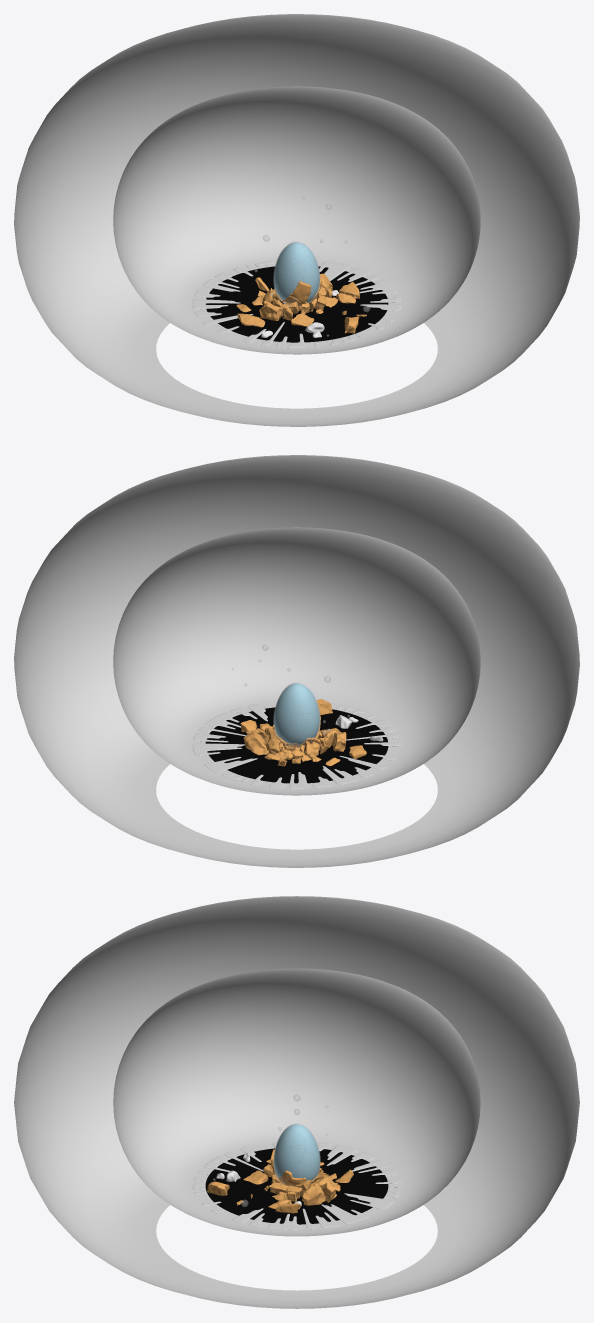
File: PXLs_egg239.glb
The picture shows the model from 3 angles, top to bottom: view 1: azimuth 30°, elevation 25°; view 2: azimuth 150°, elevation 25°; view 3: azimuth 270°, elevation 25°; orthographic projection.
Visible parts, largest first — view 1: outerCylinder, innerCylinder, floorBase, rockDebris, smoke4, smoke3, crackedEgg; view 2: outerCylinder, innerCylinder, floorBase, rockDebris, smoke4, smoke3, crackedEgg; view 3: outerCylinder, innerCylinder, floorBase, rockDebris, smoke4, smoke3, crackedEgg.
Boxes of the visible parts, bbox=[...] form: outerCylinder: bbox=[14, 14, 579, 426]; innerCylinder: bbox=[113, 86, 480, 354]; floorBase: bbox=[205, 266, 388, 342]; rockDebris: bbox=[237, 273, 359, 333]; smoke4: bbox=[273, 241, 320, 305]; smoke3: bbox=[274, 241, 319, 302]; crackedEgg: bbox=[274, 242, 319, 302]; outerCylinder: bbox=[14, 455, 579, 867]; innerCylinder: bbox=[113, 527, 480, 795]; floorBase: bbox=[205, 707, 388, 783]; rockDebris: bbox=[240, 699, 366, 766]; smoke4: bbox=[273, 682, 320, 747]; smoke3: bbox=[274, 682, 319, 746]; crackedEgg: bbox=[274, 683, 319, 744]; outerCylinder: bbox=[14, 896, 579, 1308]; innerCylinder: bbox=[113, 968, 480, 1236]; floorBase: bbox=[205, 1148, 388, 1224]; rockDebris: bbox=[207, 1156, 353, 1213]; smoke4: bbox=[273, 1123, 320, 1185]; smoke3: bbox=[274, 1123, 320, 1179]; crackedEgg: bbox=[274, 1124, 319, 1180].
Size of the model in its own units: 22.69 by 11.36 by 22.69.
Materials: 8 (2 with a texture image).
